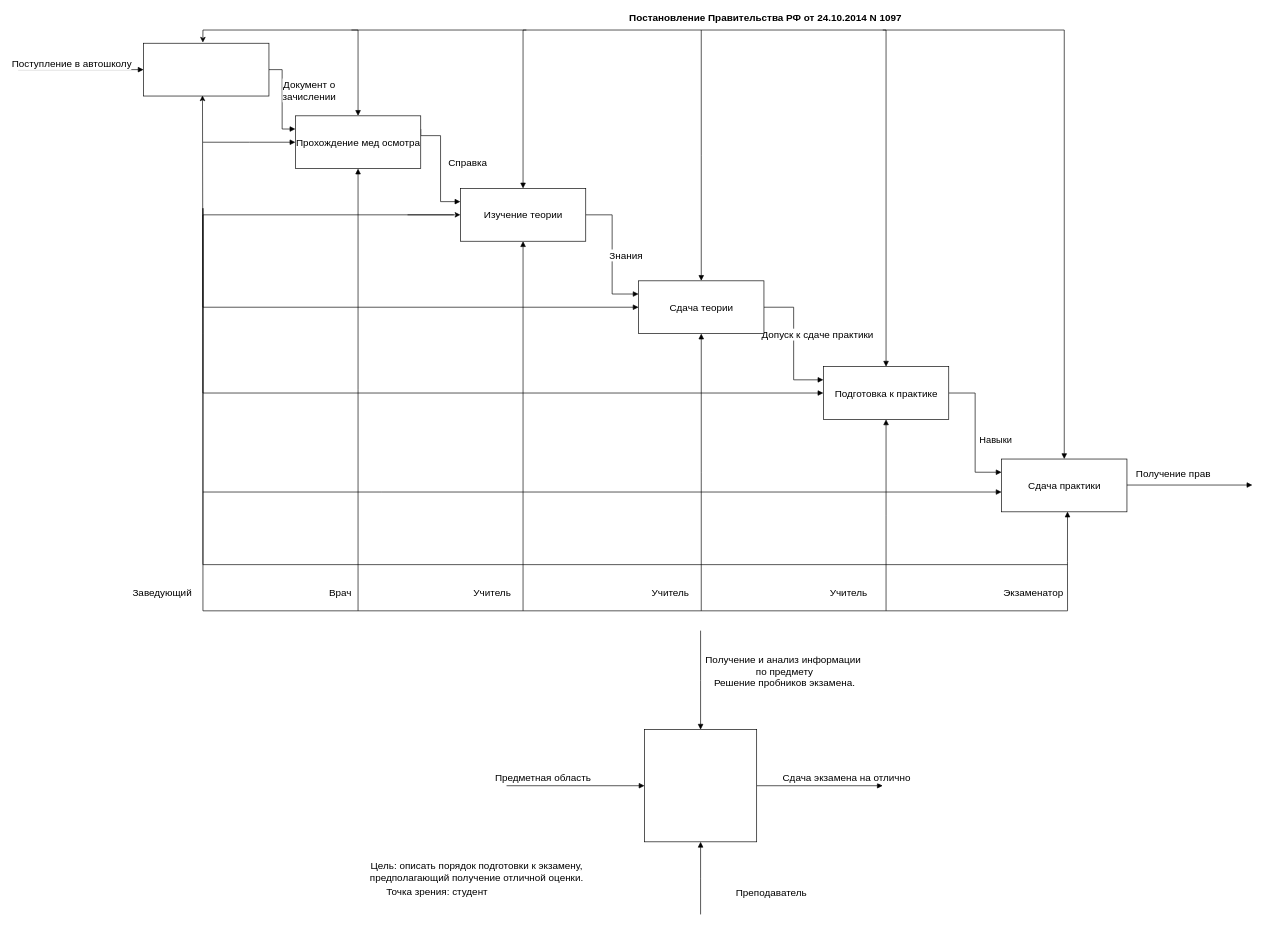
The diagram is 1269 pixels wide and 931 high, and some of its shapes have lost their labels. Here are the shapes that lost their labels. From the top down, the centre of each, then its label:
(206,69): Зачисление в группу
(700,785): Получение оценки "Отлично"
